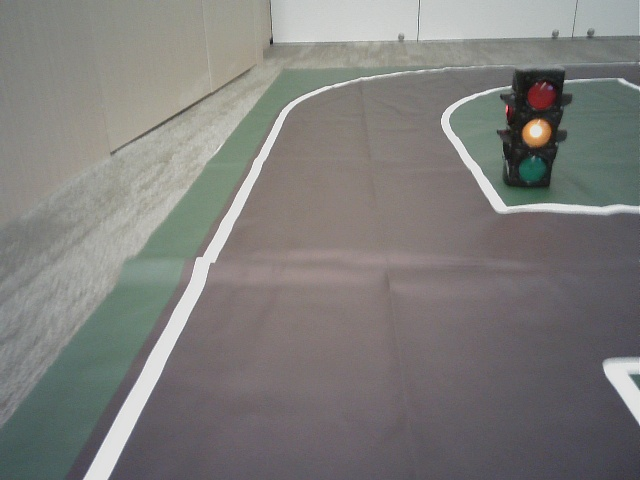yellow: (513, 78, 555, 181)
